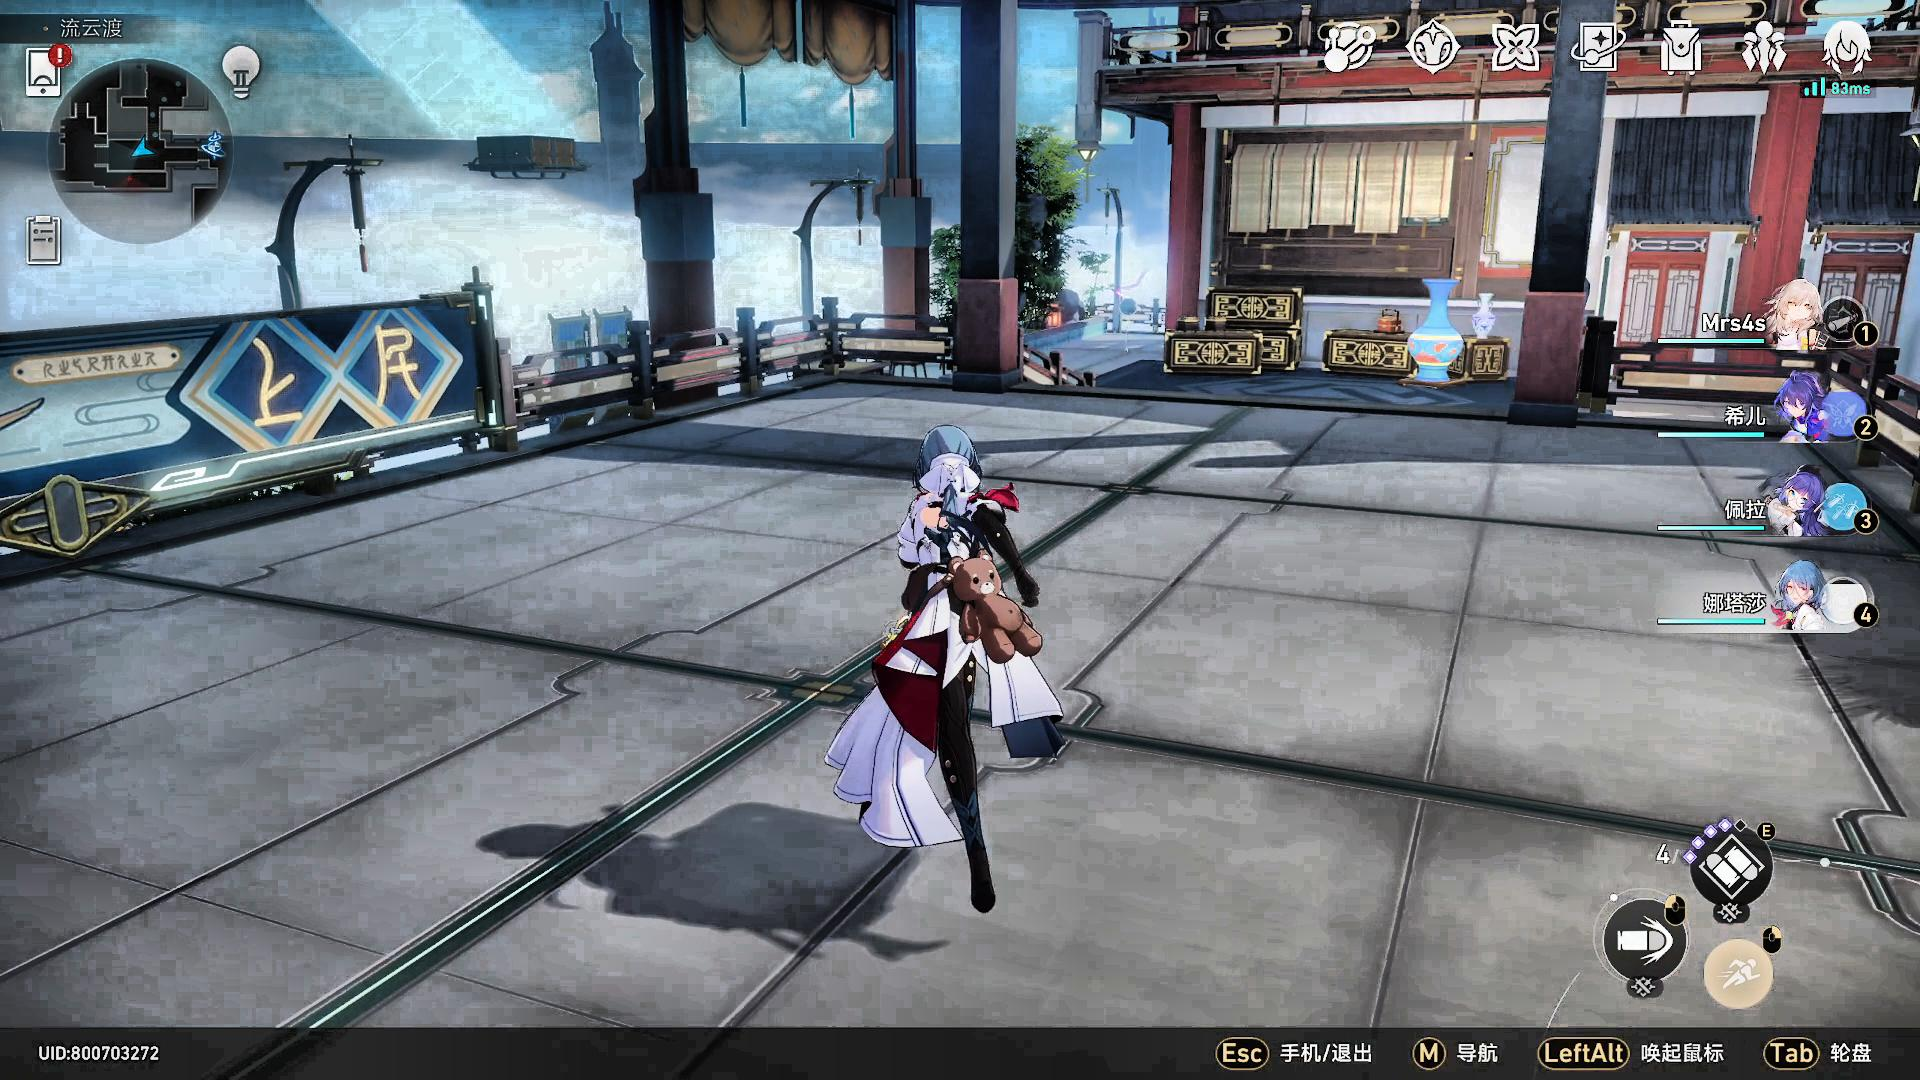Self: (823, 426, 1063, 919)
